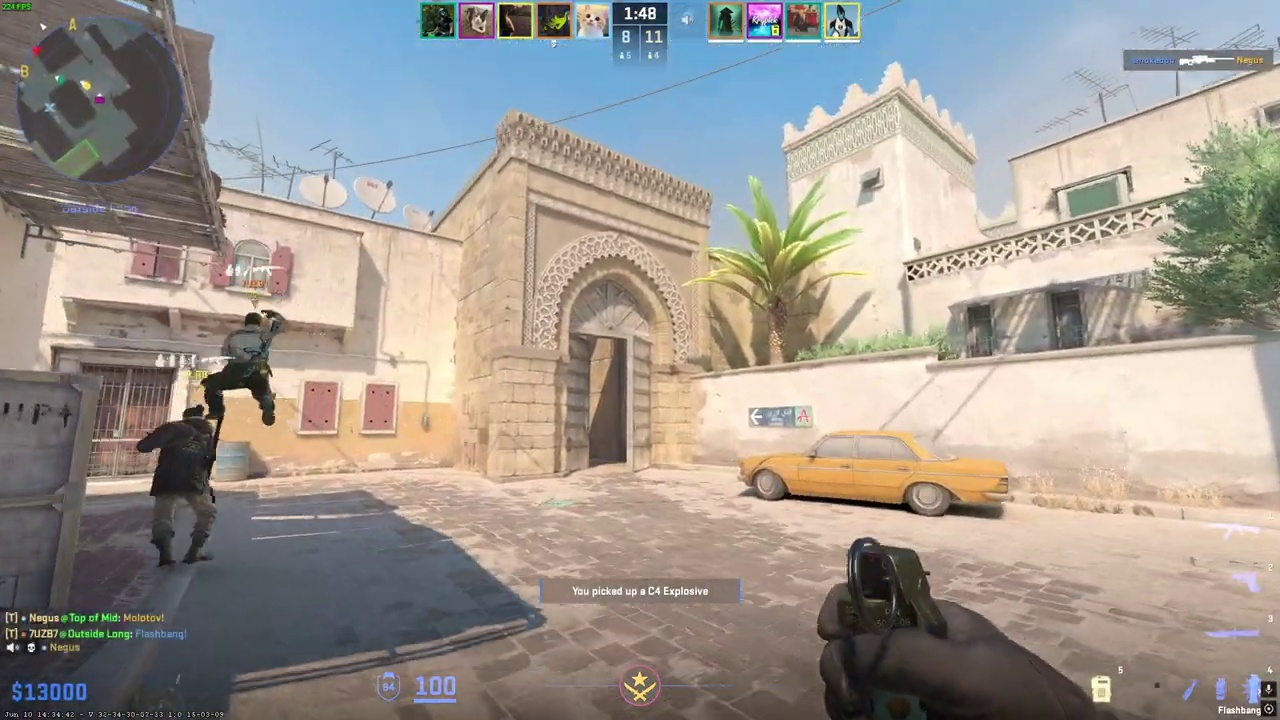Terrorist: (137, 392, 226, 571), (203, 310, 281, 433)
